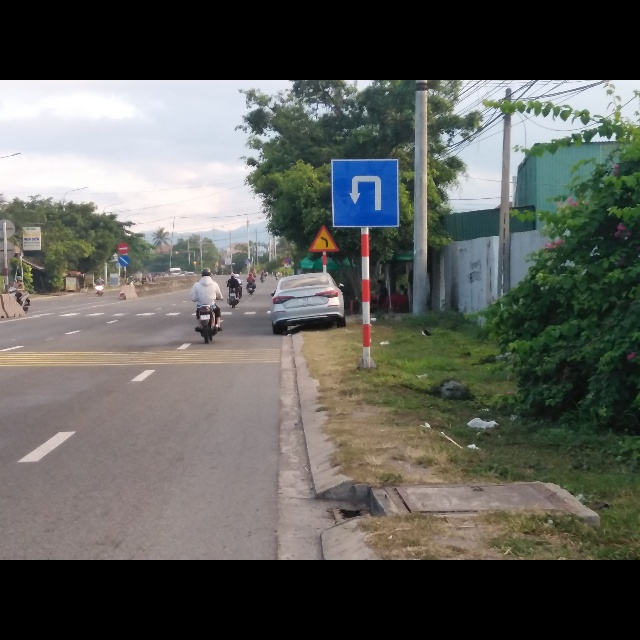Khu vực quay đầu xe: (329, 157, 400, 231)
